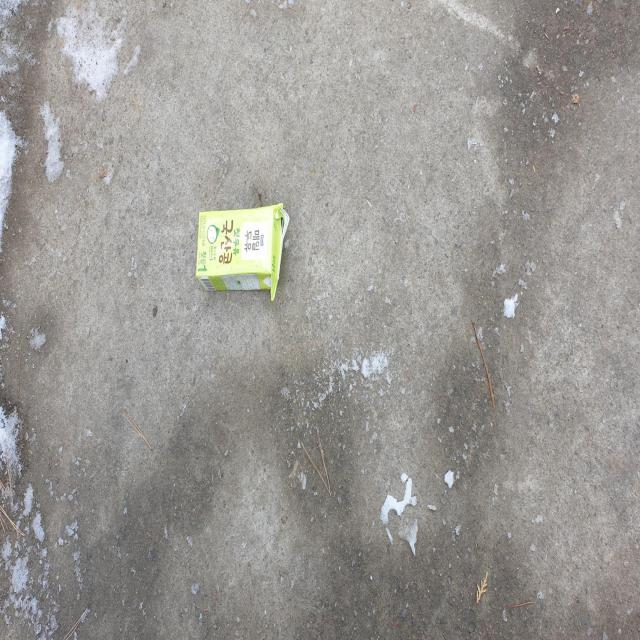paperpack: (196, 203, 290, 300)
